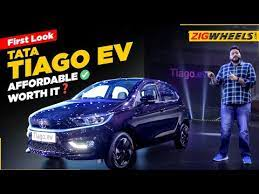Tiago: (23, 77, 195, 169)
